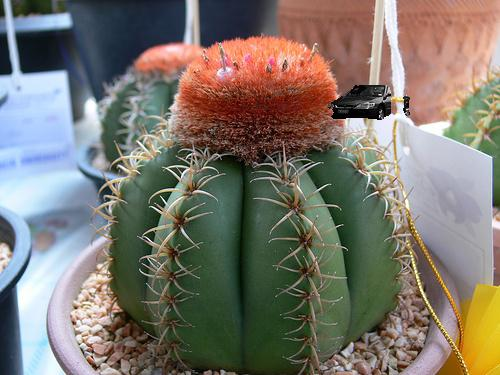tampered: (328, 86, 410, 120)
